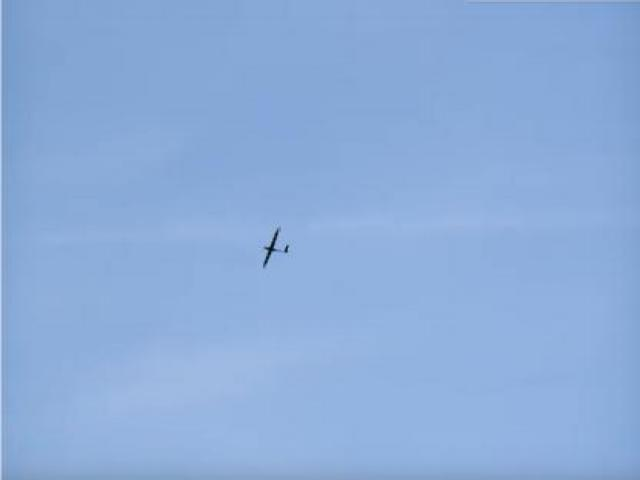uav: (259, 224, 292, 270)
